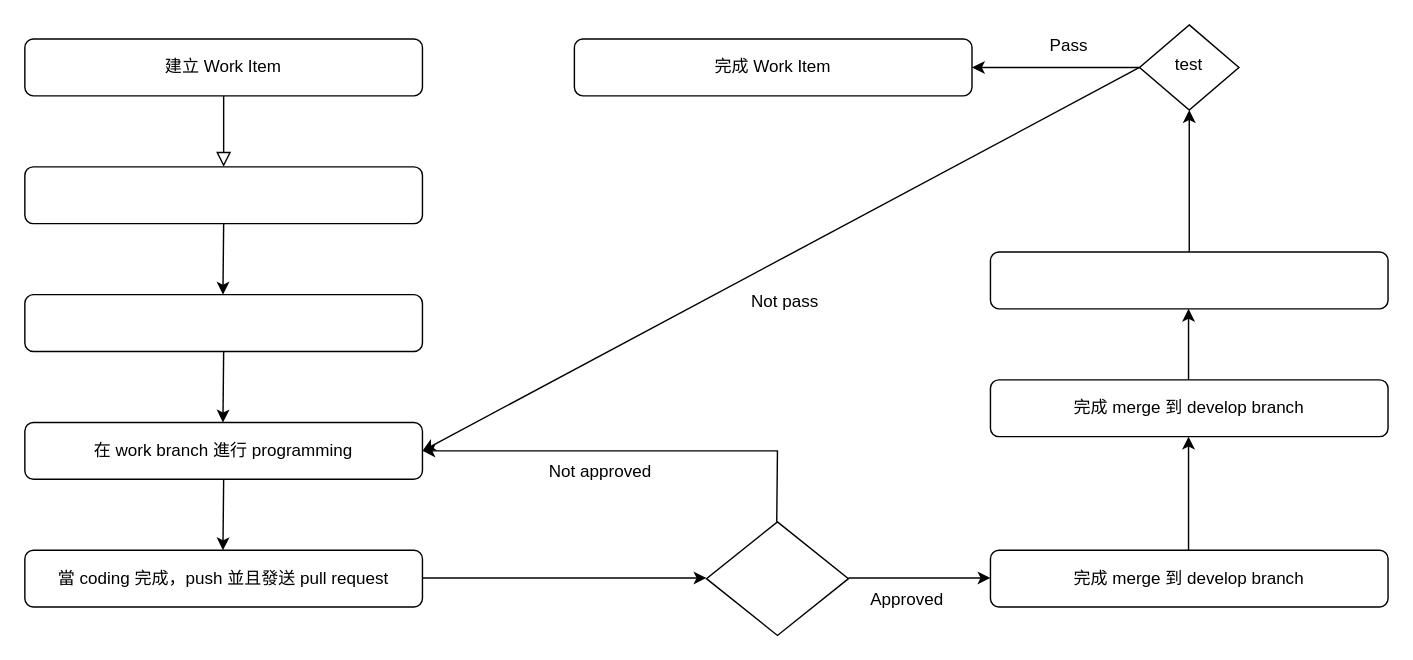
Image size: 1413x660. Some labels were removed from this diagram. The shapes that lost their labels are listed below. From the top down, each one's centre as x and y in pixels, then its label:
At (222,194): "git pull 取得程式碼".
At (1188,280): "對測試環境進行佈署與測試".
At (222,322): "依照 Work Item 建立 work branch".
At (776,577): "code review".
